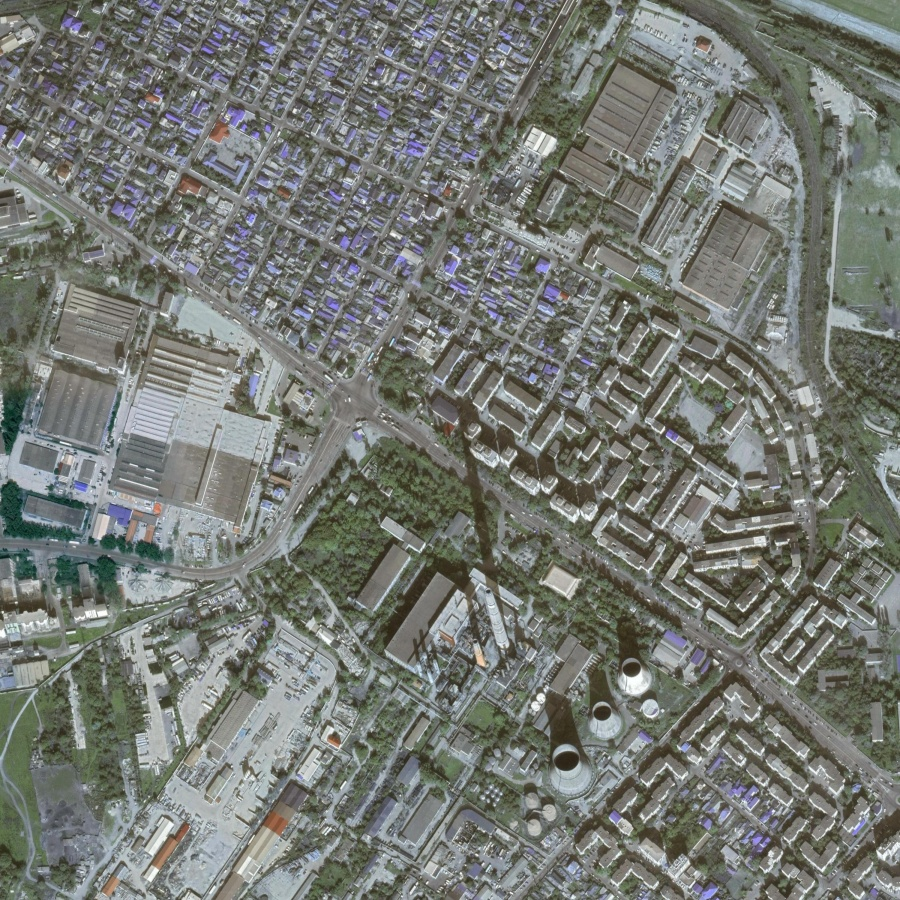PowerPlant: (392, 479, 678, 823)
